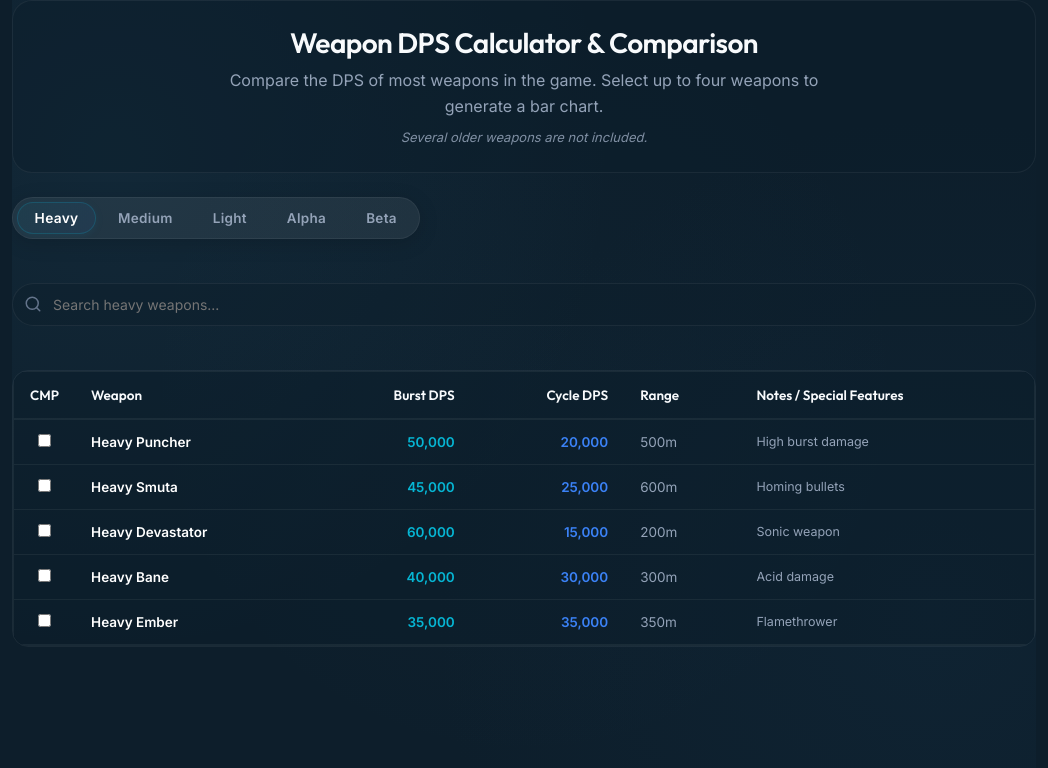
WeaponsDpsTab › adds and removes a weapon to the comparison list
Add first weapon to comparison
Step 1. Click the checkbox next to "Heavy Puncher" → (44, 440), box x1=38 y1=434 x2=51 y2=447
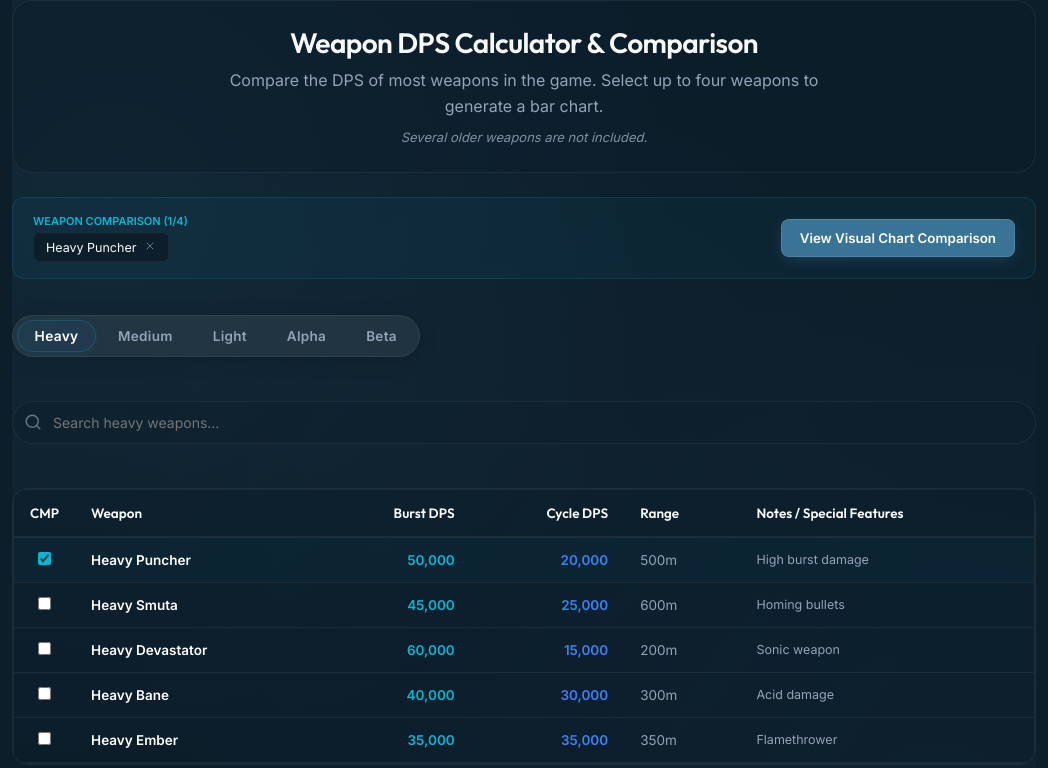
Now the text "WEAPON COMPARISON (1/4)" is shown, box x1=33 y1=214 x2=188 y2=228
Now the button with class "remove-weapon-btn" is shown
Step 2. Click the button with class "remove-weapon-btn" → (150, 247), box x1=144 y1=239 x2=156 y2=255
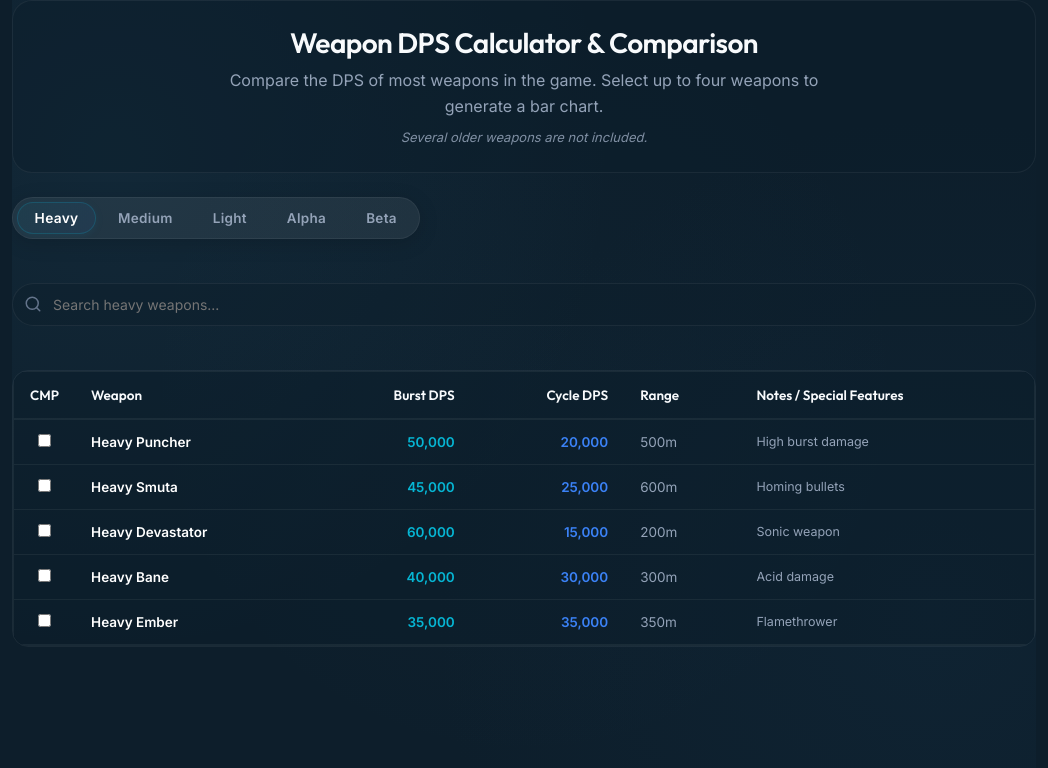
Now the text "WEAPON COMPARISON (1/4)" is gone
